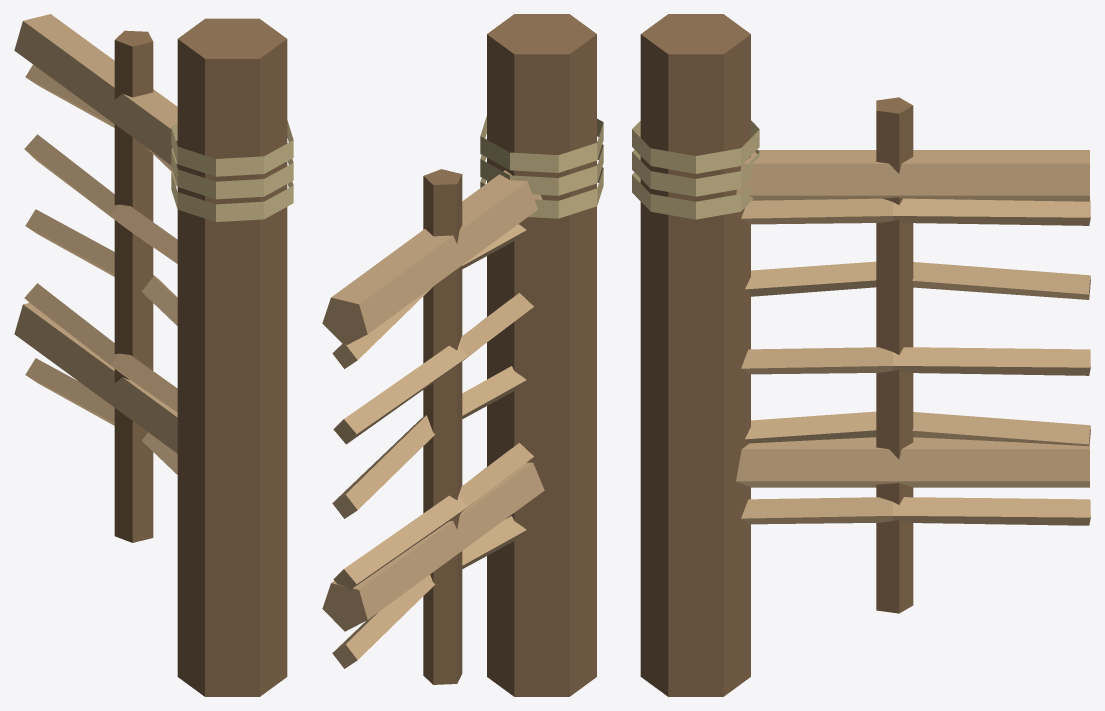
The model's file is pen_fence_01.glb.
3 views of the same model, side by side, from view 1: azimuth 30°, elevation 25°; view 2: azimuth 150°, elevation 25°; view 3: azimuth 270°, elevation 25° (orthographic).
Visible parts, largest first — view 1: pen_fence_01; view 2: pen_fence_01; view 3: pen_fence_01.
Boxes of the visible parts, <box> form: pen_fence_01: <box>14,14,293,696</box>; pen_fence_01: <box>322,14,603,696</box>; pen_fence_01: <box>632,14,1090,696</box>.
Size of the model in its own units: 0.162 by 0.9 by 0.5823.
